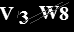3: (18, 10, 29, 25)
8: (58, 6, 69, 21)
V: (1, 6, 14, 21)
W: (37, 5, 60, 20)
